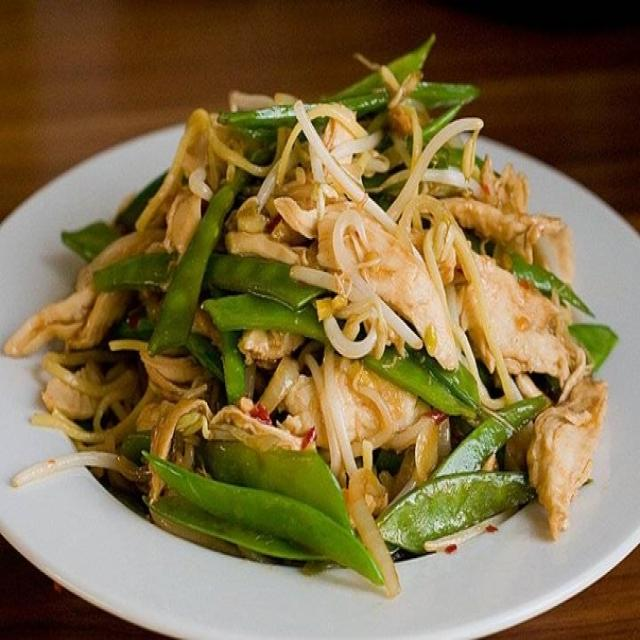面条主食: (41, 37, 612, 572)
